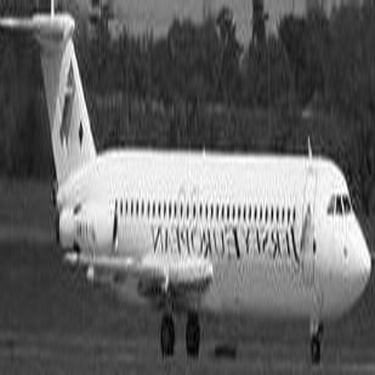airplane: (4, 4, 368, 372)
